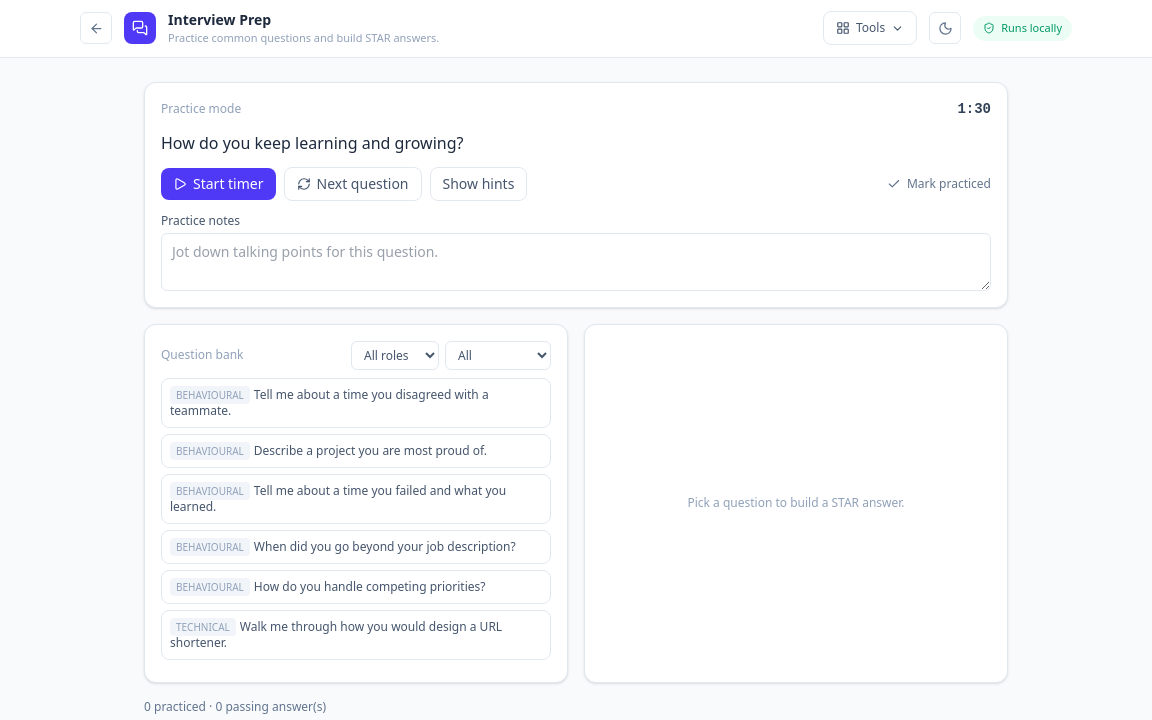
InterviewApp › updates the question list when the role pack changes
Select "Product" in the dropdown named "Role pack": (395, 355) [351,340,439,370]
(page scrolled)
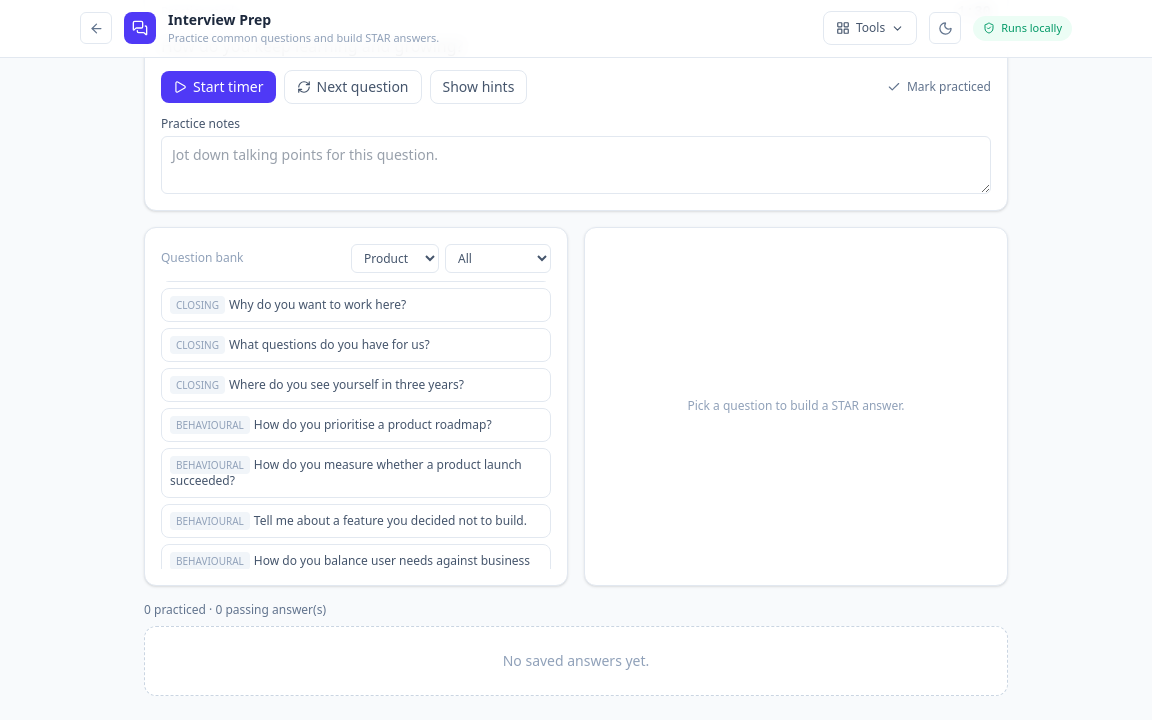
expect the button "prioritise a product roadmap" is shown: met, box [161,408,551,442]
expect the button "design a URL shortener" is gone: met
